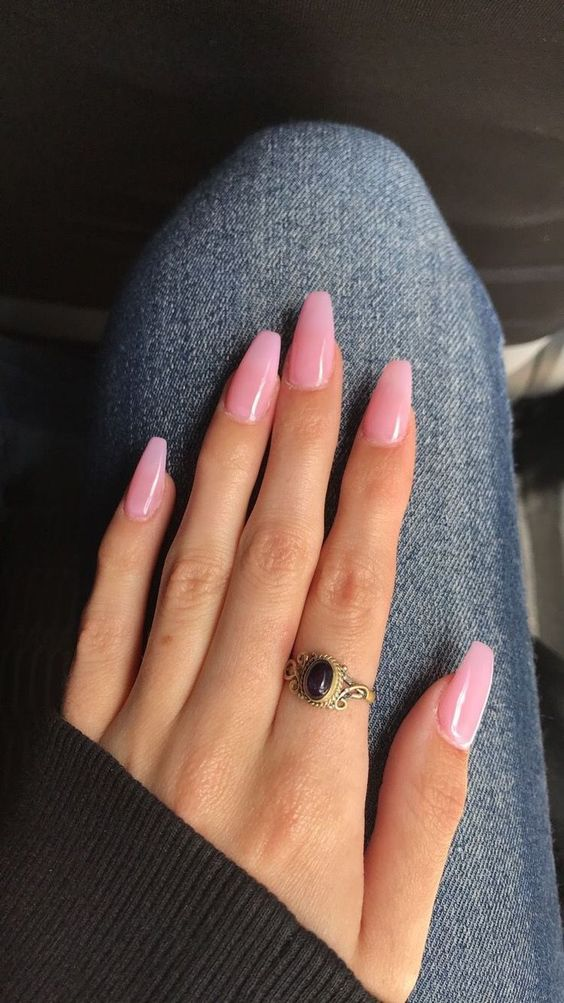nails: (433, 637, 499, 757), (280, 282, 348, 393), (218, 324, 287, 432), (352, 353, 424, 449), (114, 431, 176, 532)
